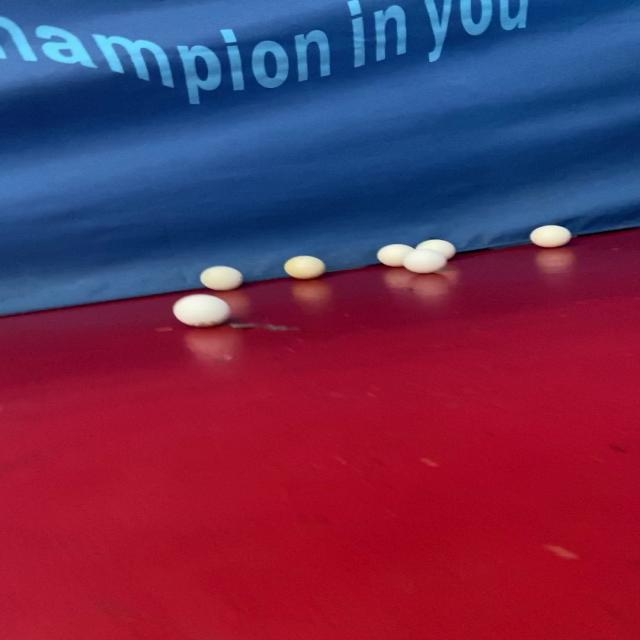ping-pong-ball: (169, 289, 236, 329), (194, 261, 250, 292), (278, 252, 332, 280), (522, 221, 576, 249)
